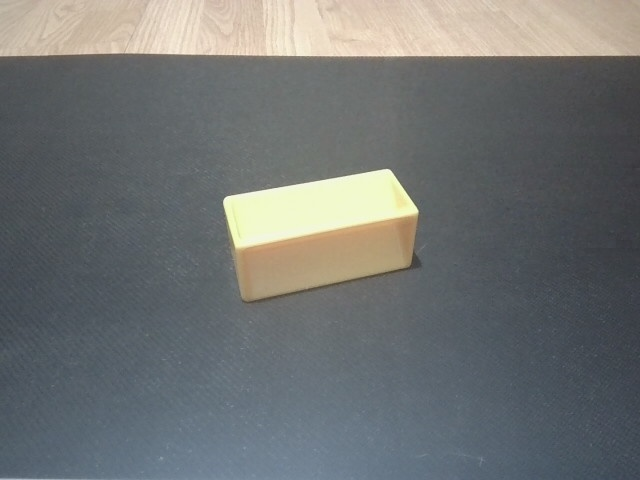YellowSample: (221, 166, 421, 303)
